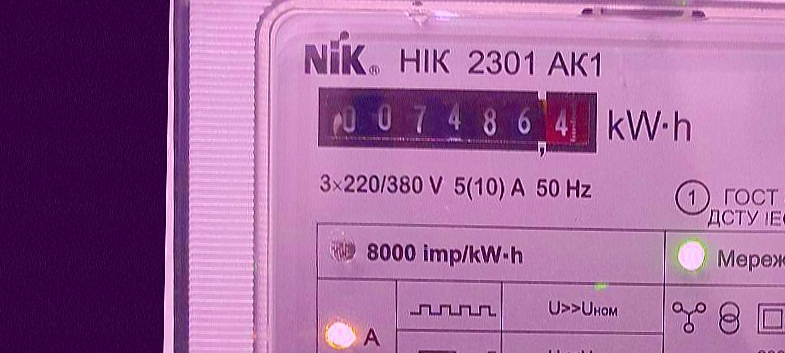0: (338, 101, 359, 135), (375, 100, 394, 133)
4: (444, 98, 463, 133), (552, 105, 569, 139)
6: (515, 104, 534, 136)
7: (407, 101, 431, 135)
8: (481, 104, 498, 140)
screen: (307, 75, 607, 165)
